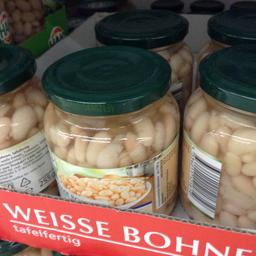beans: (41, 46, 176, 216), (183, 44, 255, 230)
